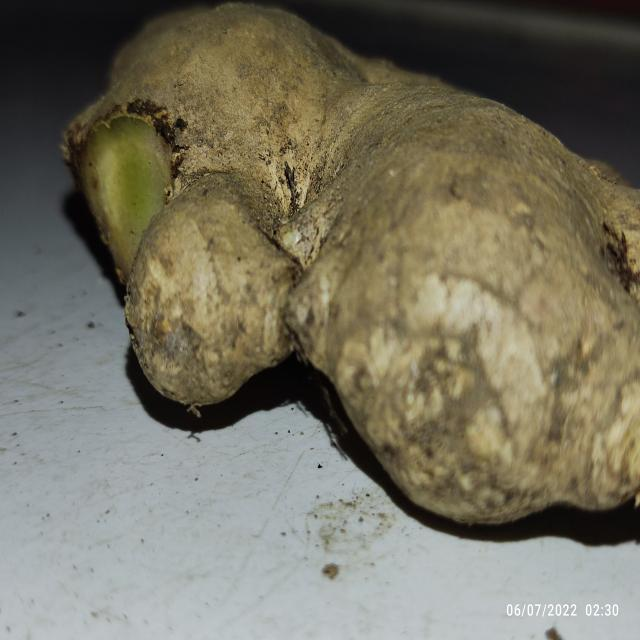ginger: (76, 0, 640, 512)
